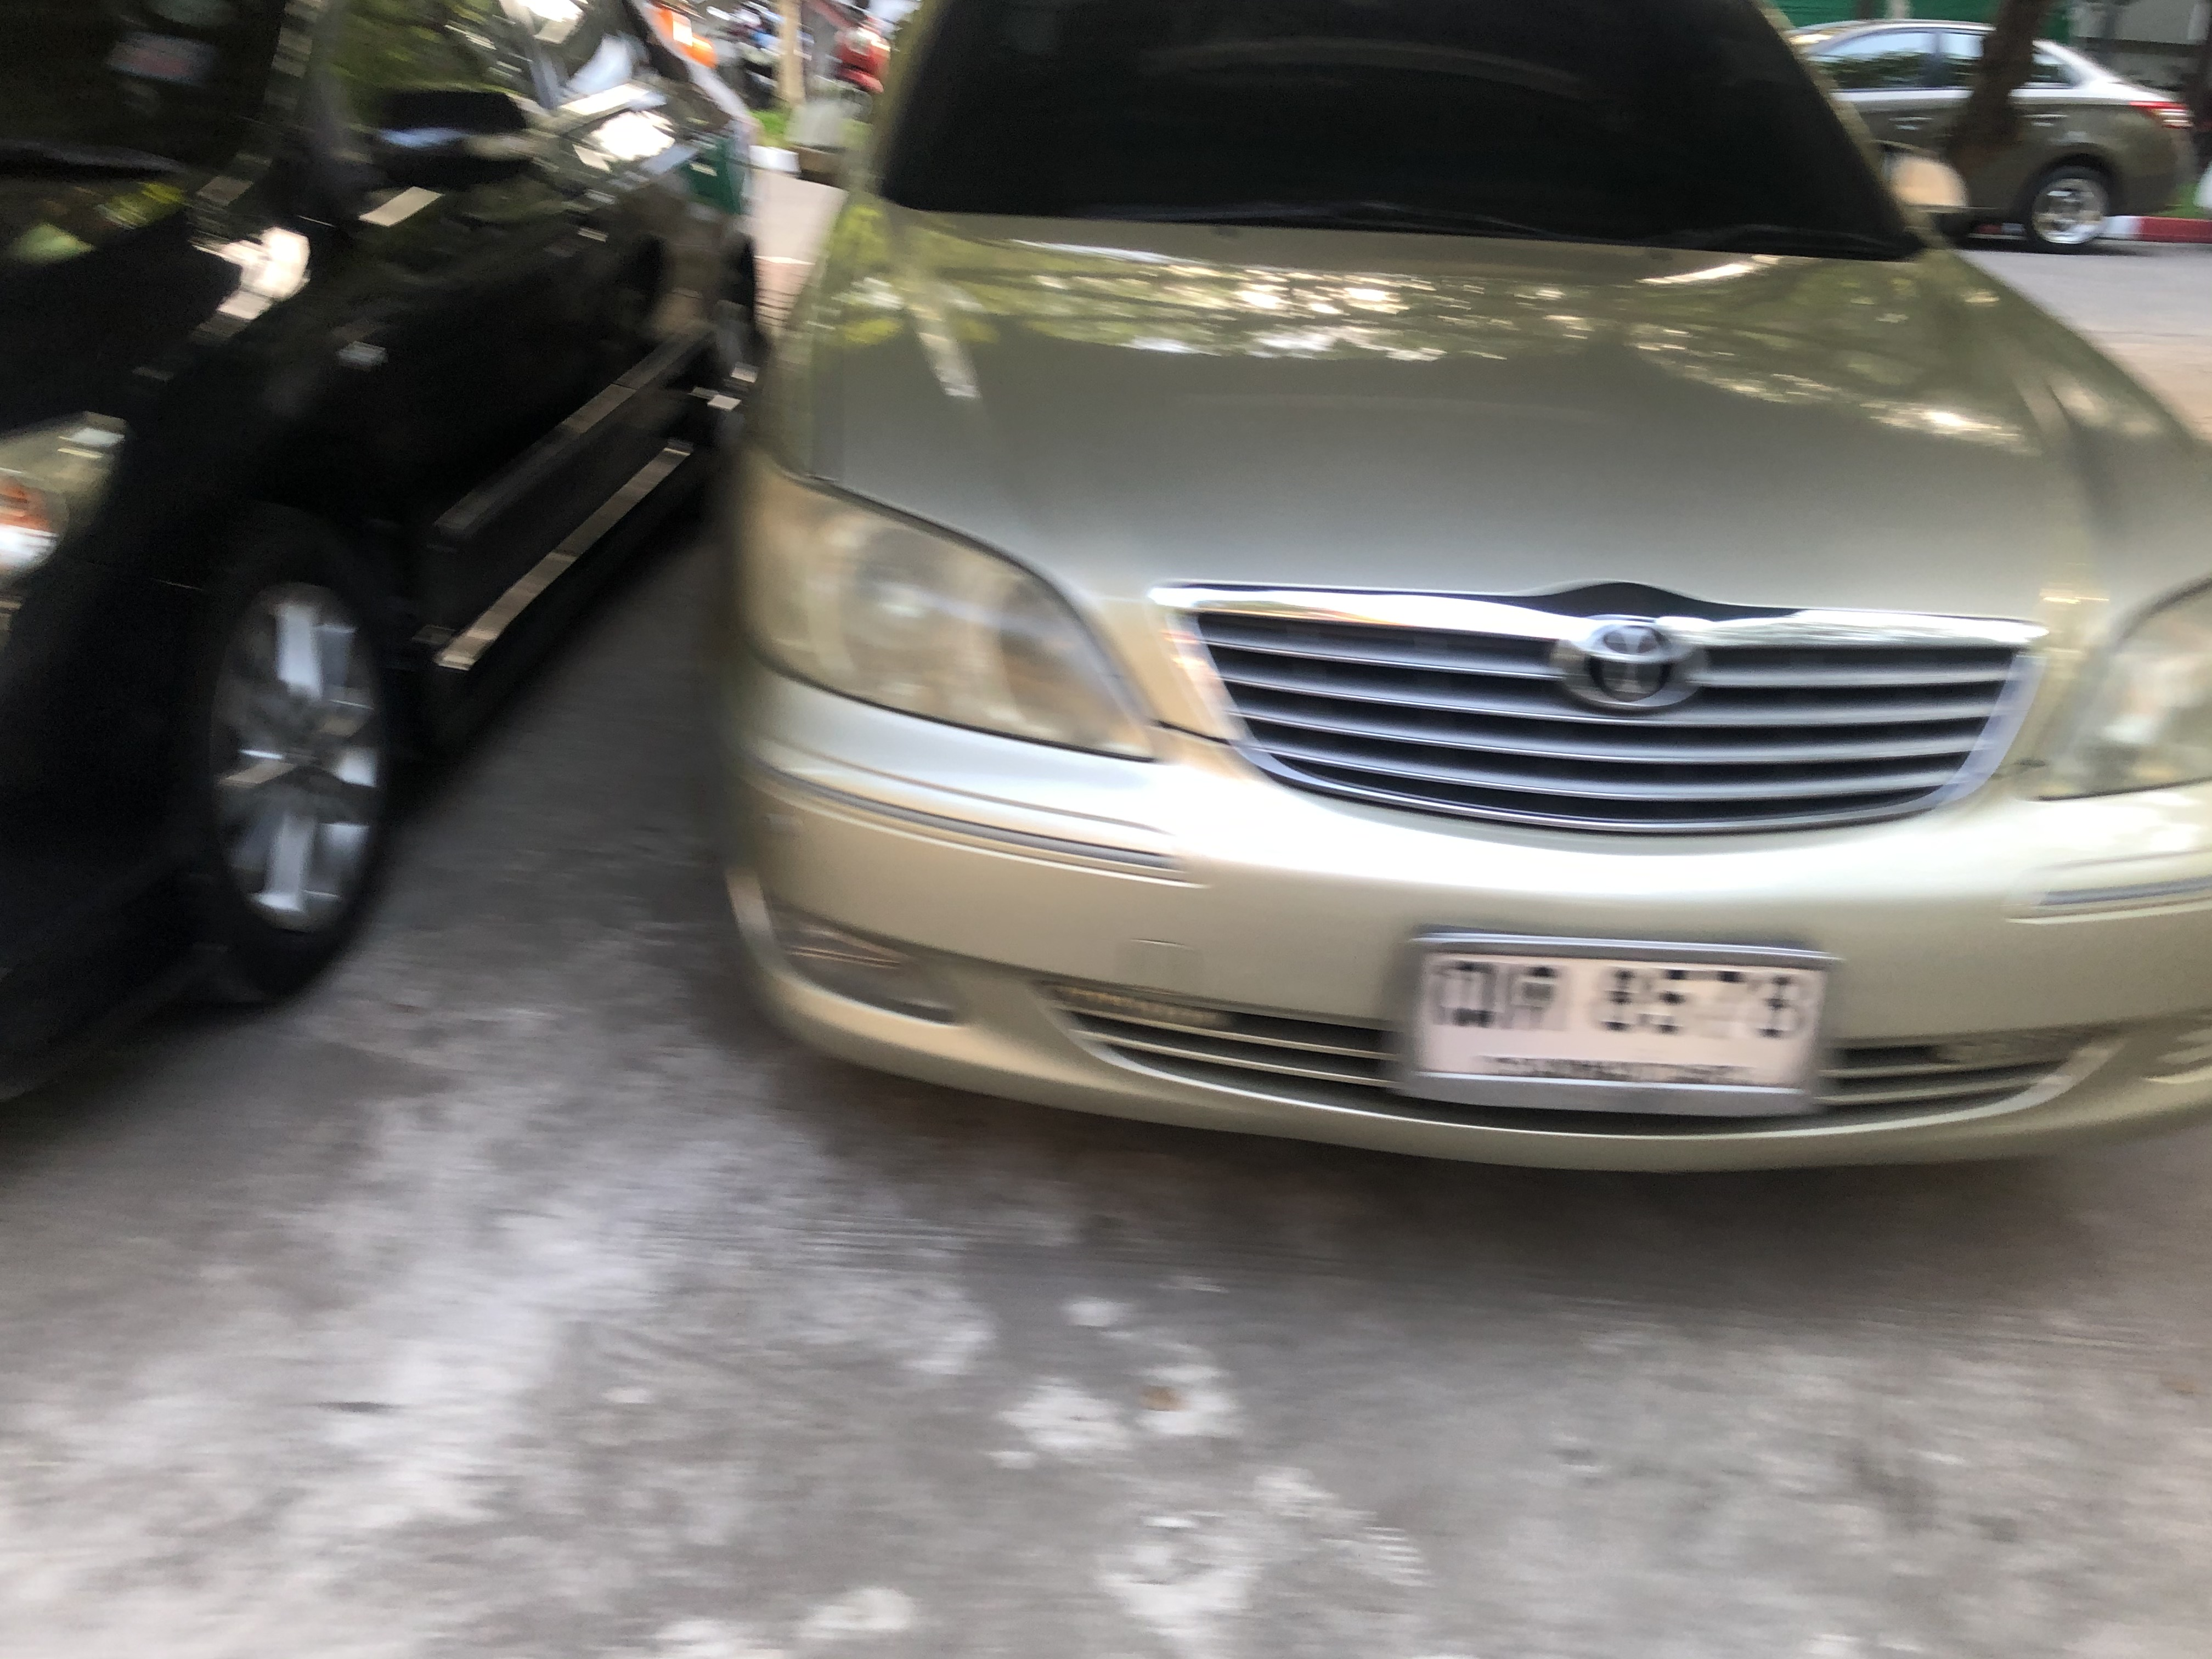in: (1423, 948, 1810, 1094)
out: (1399, 918, 1832, 1138)
